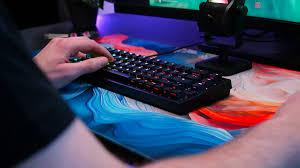keyboard: (68, 42, 232, 115)
